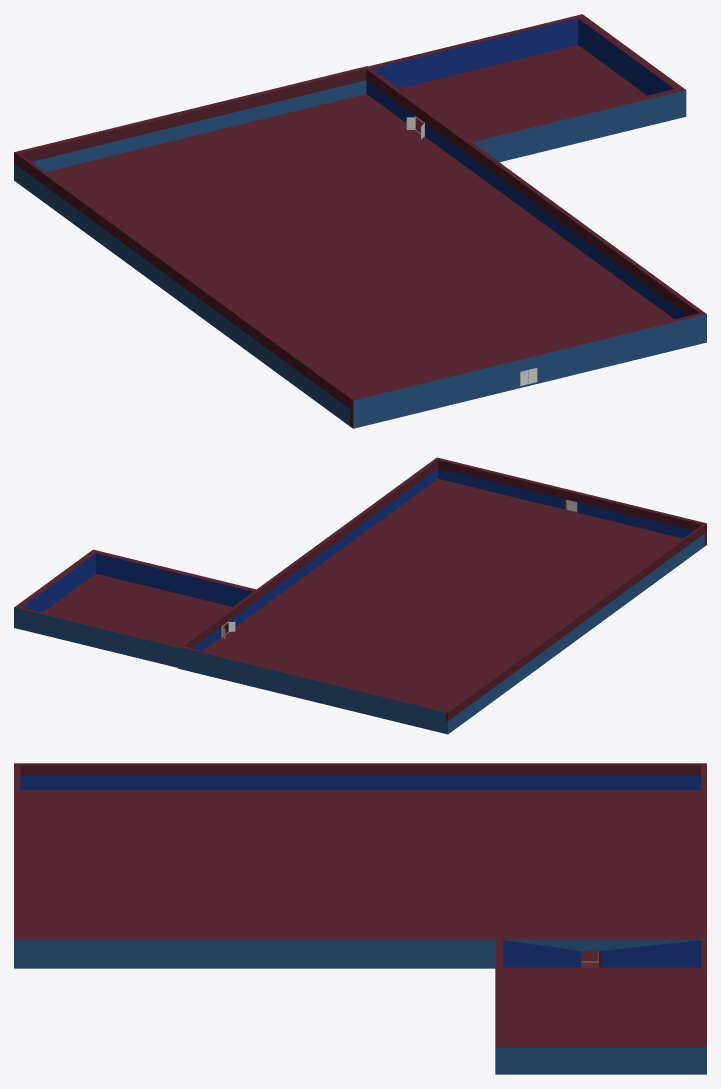
The model's file is floor_plan.glb.
3 renders of one model, top to bottom at view 1: azimuth 30°, elevation 25°; view 2: azimuth 150°, elevation 25°; view 3: azimuth 270°, elevation 25°, orthographic. The views are drawn at different scales.
Parts seen in each view (by area): view 1: Floor_Plan-col; view 2: Floor_Plan-col; view 3: Floor_Plan-col.
Boxes of the visible parts, box(x1,y1,x2,y2) form: Floor_Plan-col: box(14, 14, 706, 428); Floor_Plan-col: box(14, 457, 706, 734); Floor_Plan-col: box(14, 763, 706, 1074).
Bounding box in the file's own units: 142 × 6.77 × 147.
Materials: 1 (1 with a texture image).
